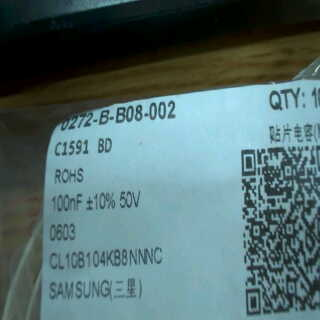100nF: (48, 190, 84, 215)
